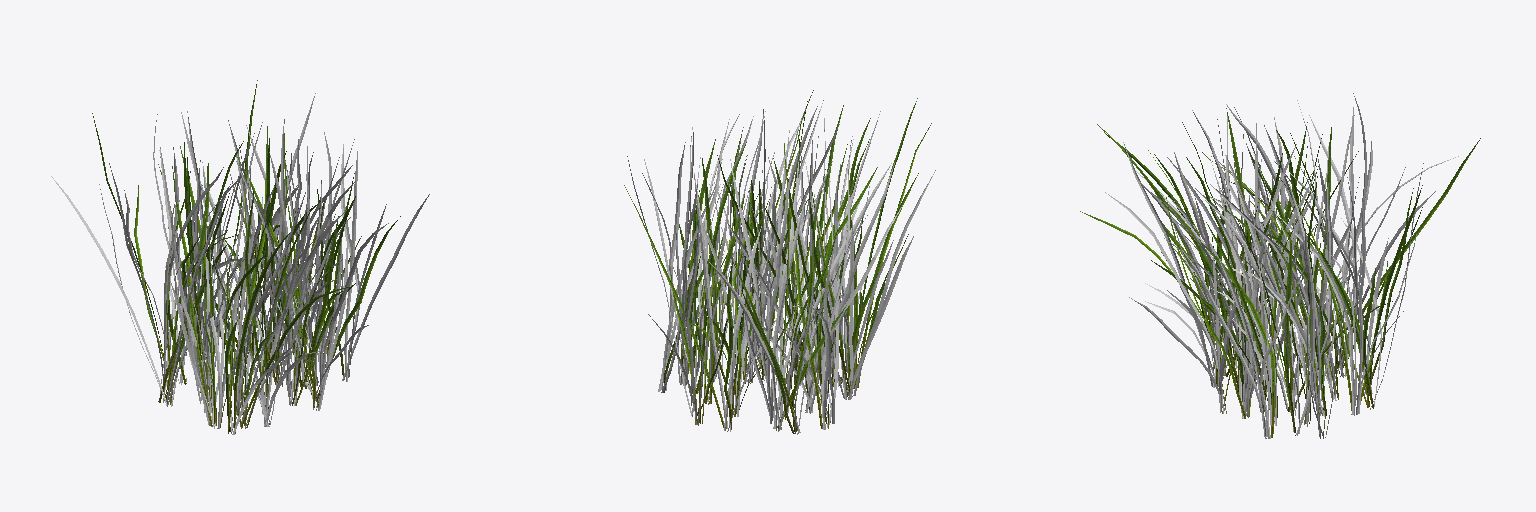
The picture shows the model from 3 angles: view 1: azimuth 30°, elevation 25°; view 2: azimuth 150°, elevation 25°; view 3: azimuth 270°, elevation 25°; orthographic projection.
Parts seen in each view (by area): view 1: Wild_Grass_Patch_3; view 2: Wild_Grass_Patch_3; view 3: Wild_Grass_Patch_3.
Boxes of the visible parts, <box> form: Wild_Grass_Patch_3: <box>51,80,429,434</box>; Wild_Grass_Patch_3: <box>624,90,935,434</box>; Wild_Grass_Patch_3: <box>1080,93,1480,438</box>.
Bounding box in the file's own units: 0.8712 × 0.9434 × 1.22.
2 materials, 1 textured.